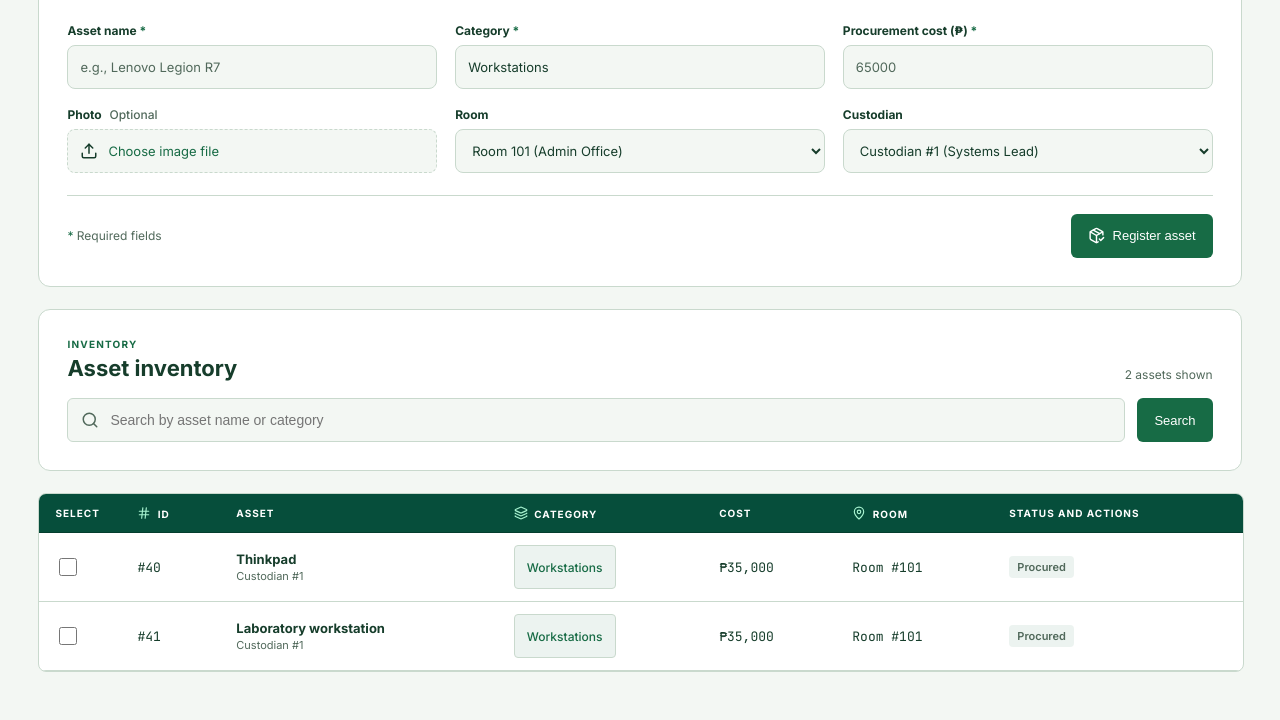
Partner QA reports #8, #9 and #10 › #9 opens the correct asset when two category actions have the same visible text
(page scrolled)
Click the button with aria-label "Workstations: open asset details for Laboratory workstation" at point(565, 636), box [514,614,616,658]
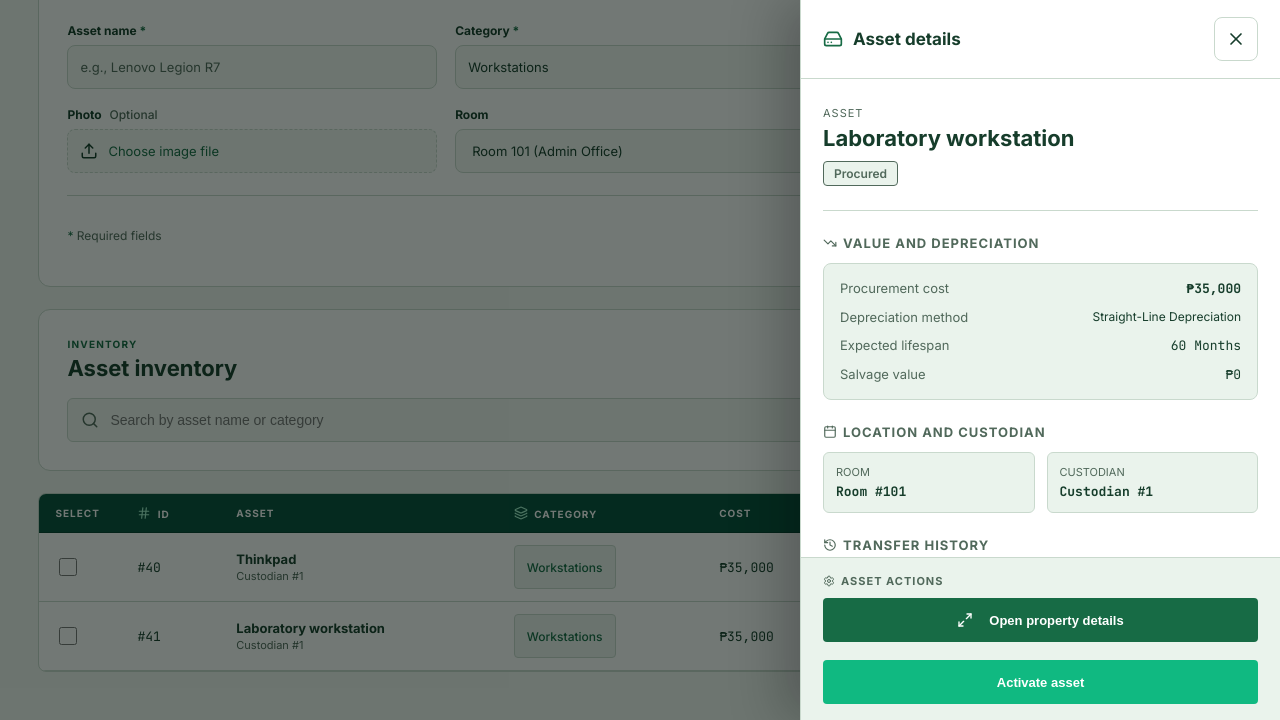
Check: the heading "Laboratory workstation" is shown, box [823,125,1074,151]
